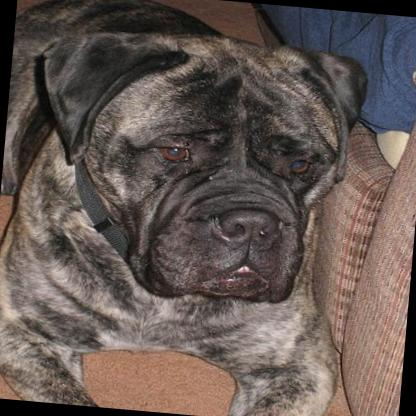bull_mastiff: (0, 0, 366, 416)
